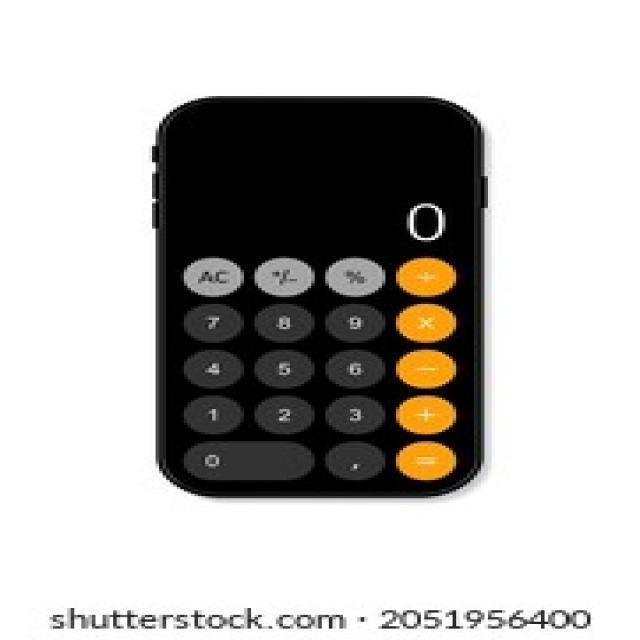Calculator: (148, 91, 488, 502)
